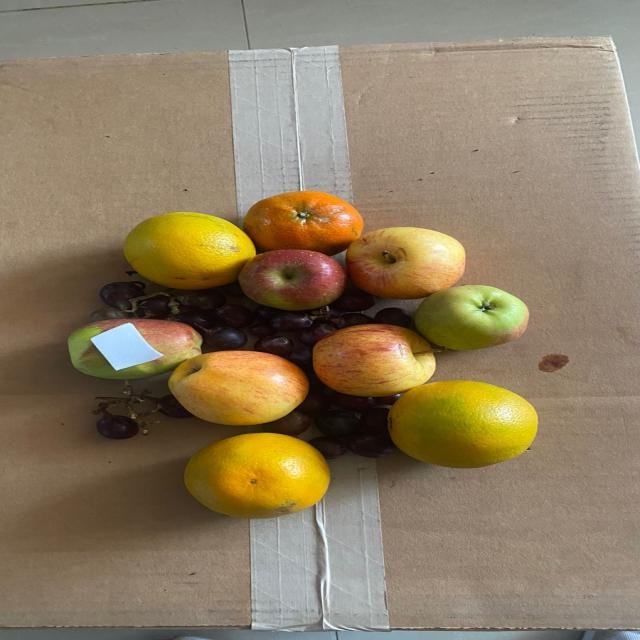hoja: (93, 322, 164, 372)
